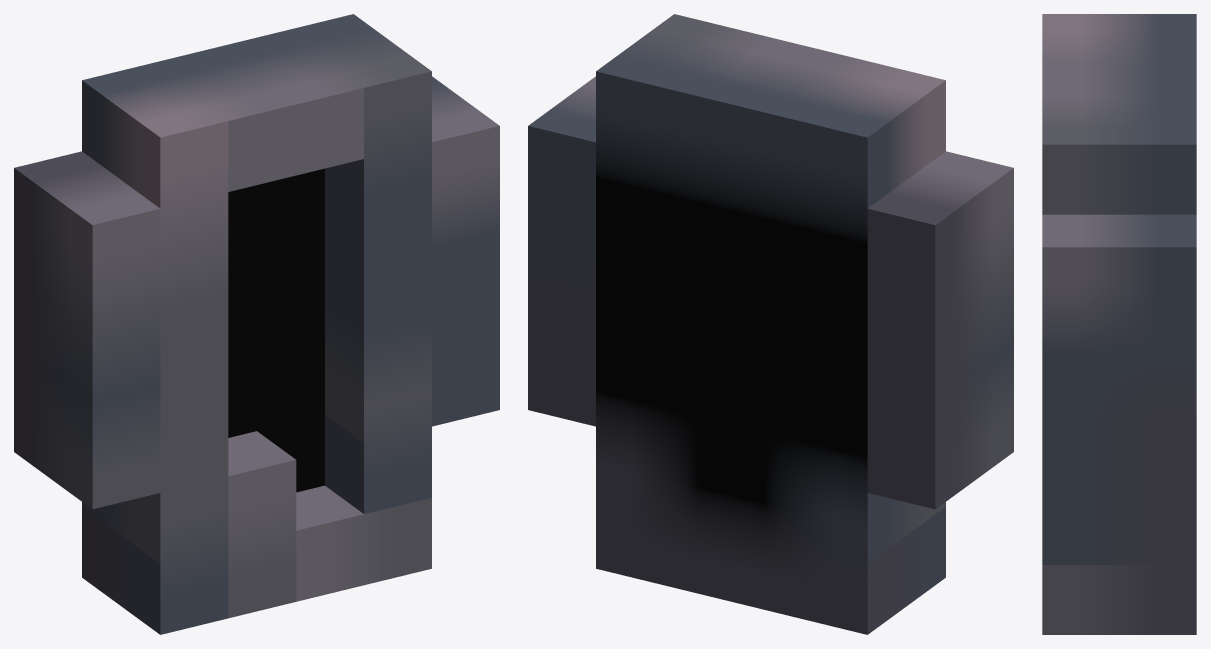
The model's file is Lock.fbx.
The picture shows the model from 3 angles, left to right: view 1: azimuth 30°, elevation 25°; view 2: azimuth 150°, elevation 25°; view 3: azimuth 270°, elevation 25°; orthographic projection.
Parts seen in each view (by area): view 1: Lock; view 2: Lock; view 3: Lock.
Boxes of the visible parts, bbox=[...] form: Lock: bbox=[14, 14, 499, 634]; Lock: bbox=[528, 14, 1013, 634]; Lock: bbox=[1042, 14, 1196, 634].
Bounding box in the file's own units: 30 × 35 × 10.
